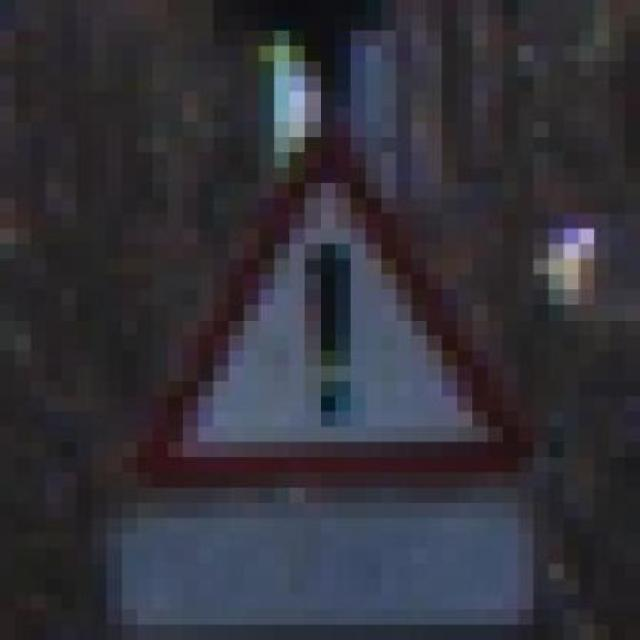Attention Please-: (107, 137, 548, 488)
